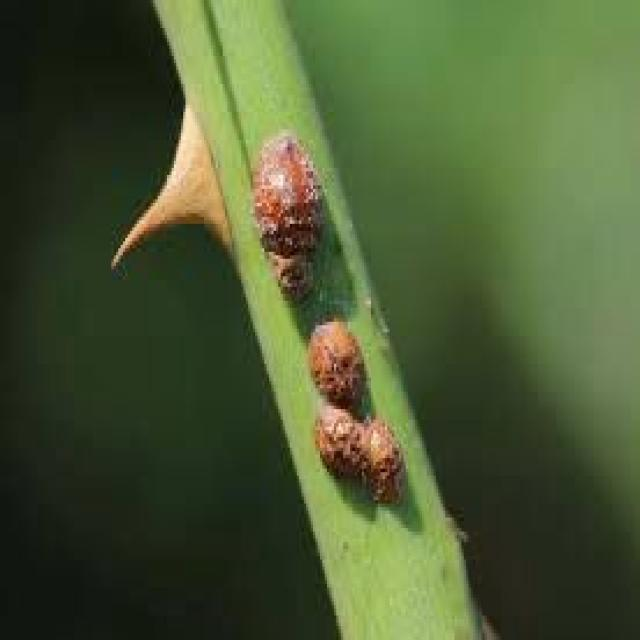BlackScale: (311, 318, 404, 500), (253, 130, 343, 300)
